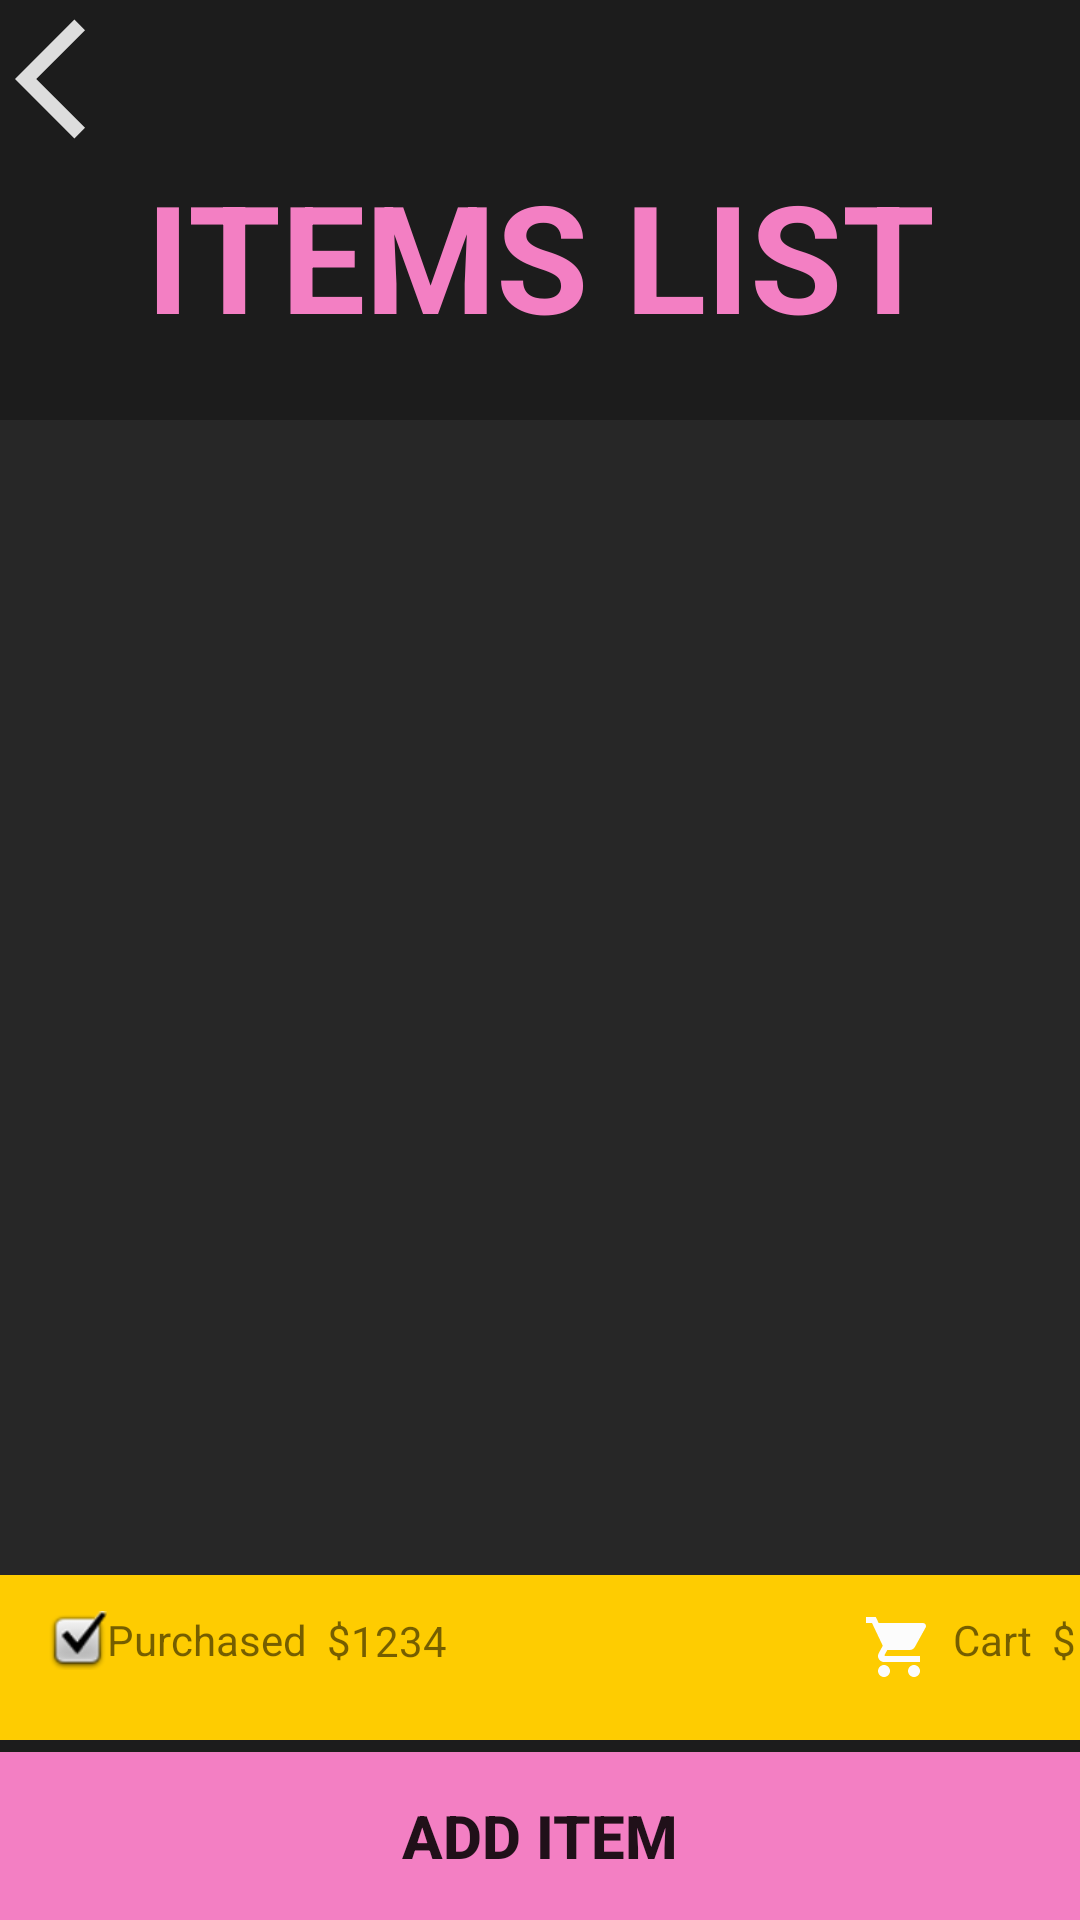

Screen size 1080w x 1920h. Icon name, then its center in pixels as point (x, y):
backarrow: point (50, 79)
